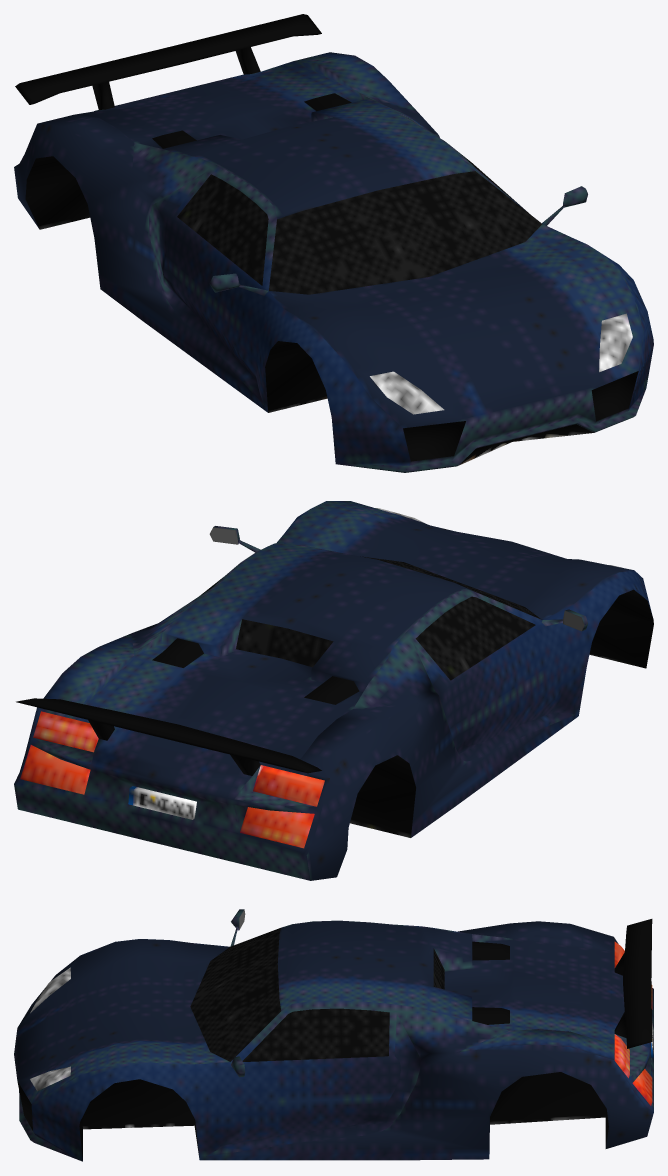
The model's file is porsche 918.fbx.
3 renders of one model, top to bottom at view 1: azimuth 30°, elevation 25°; view 2: azimuth 150°, elevation 25°; view 3: azimuth 270°, elevation 25°, orthographic. The views are drawn at different scales.
Parts seen in each view (by area): view 1: porsche 918; view 2: porsche 918; view 3: porsche 918.
Boxes of the visible parts, bbox=[...] form: porsche 918: bbox=[14, 14, 653, 472]; porsche 918: bbox=[14, 501, 653, 880]; porsche 918: bbox=[14, 909, 653, 1161].
Bounding box in the file's own units: 3.39 × 1.4 × 5.79.
